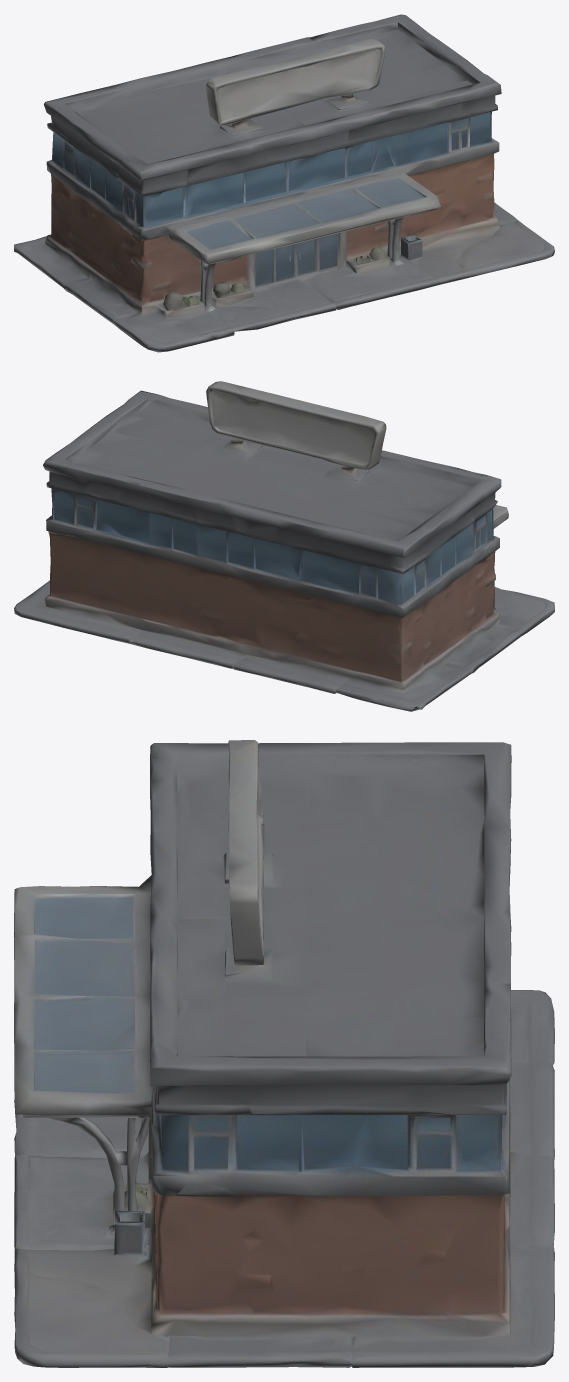
File: airport_main.glb
3 views of the same model, one above another, from view 1: azimuth 30°, elevation 25°; view 2: azimuth 150°, elevation 25°; view 3: azimuth 270°, elevation 25° (orthographic). The views are drawn at different scales.
Visible parts, largest first — view 1: tripo_node_e4c951af-4318-4444-acf1-b9b15768f21d; view 2: tripo_node_e4c951af-4318-4444-acf1-b9b15768f21d; view 3: tripo_node_e4c951af-4318-4444-acf1-b9b15768f21d.
Boxes of the visible parts, <box> form: tripo_node_e4c951af-4318-4444-acf1-b9b15768f21d: <box>14,14,554,352</box>; tripo_node_e4c951af-4318-4444-acf1-b9b15768f21d: <box>14,381,554,711</box>; tripo_node_e4c951af-4318-4444-acf1-b9b15768f21d: <box>14,740,554,1367</box>.
Bounding box in the file's own units: 1 × 0.4694 × 0.6175.
Materials: 1 (1 with a texture image).
